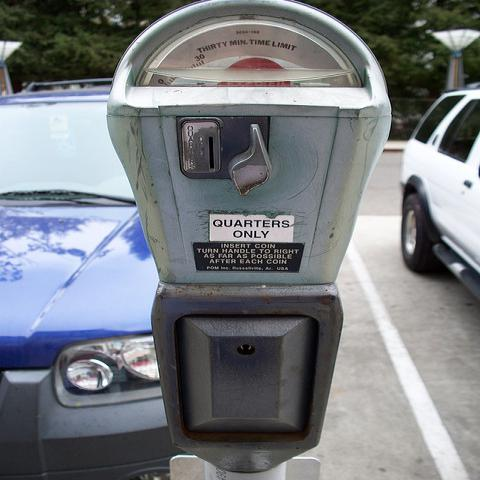car: (0, 91, 166, 440), (399, 81, 479, 303)
